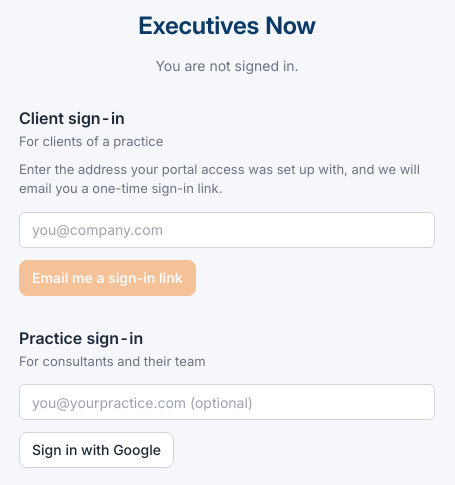
Test case: the signed-out screen (2026-09-30) › lets a client ask for a sign-in link, and says the same thing either way
In the field named "Your email address": (227, 230) [19,212,435,248], type "bbakersc1@gmail.com"
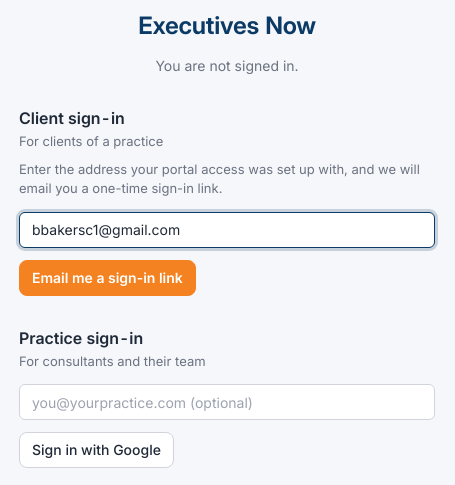
Click the button "Email me a sign-in link": (107, 278) [19,260,196,296]
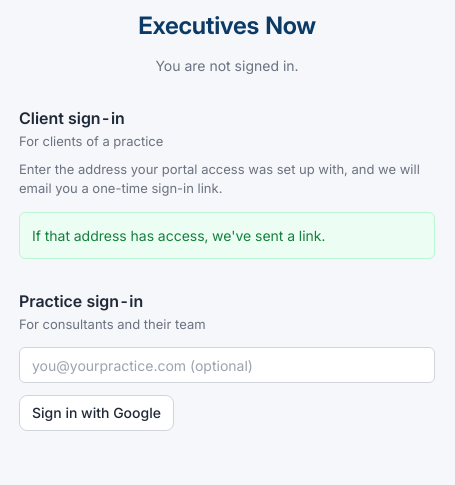
Expected: the text "If that address has access, we've sent a link." is shown, [32,226,325,244]
